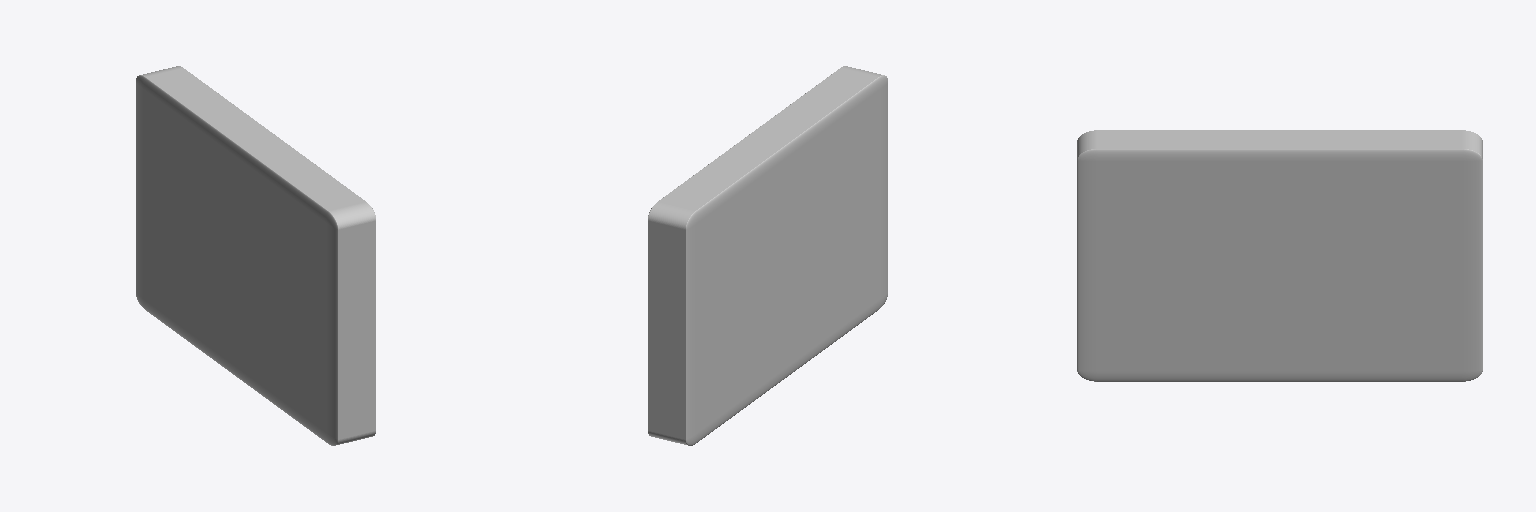
File: Cassete.obj
3 views of the same model, side by side, from view 1: azimuth 30°, elevation 25°; view 2: azimuth 150°, elevation 25°; view 3: azimuth 270°, elevation 25° (orthographic).
Parts seen in each view (by area): view 1: Cube; view 2: Cube; view 3: Cube.
Part boxes in pixels (x1,y1,x2,y2): Cube: (136,66,375,445); Cube: (648,66,887,445); Cube: (1077,130,1482,381).
Size of the model in its own units: 0.7272 by 3.85 by 6.08.